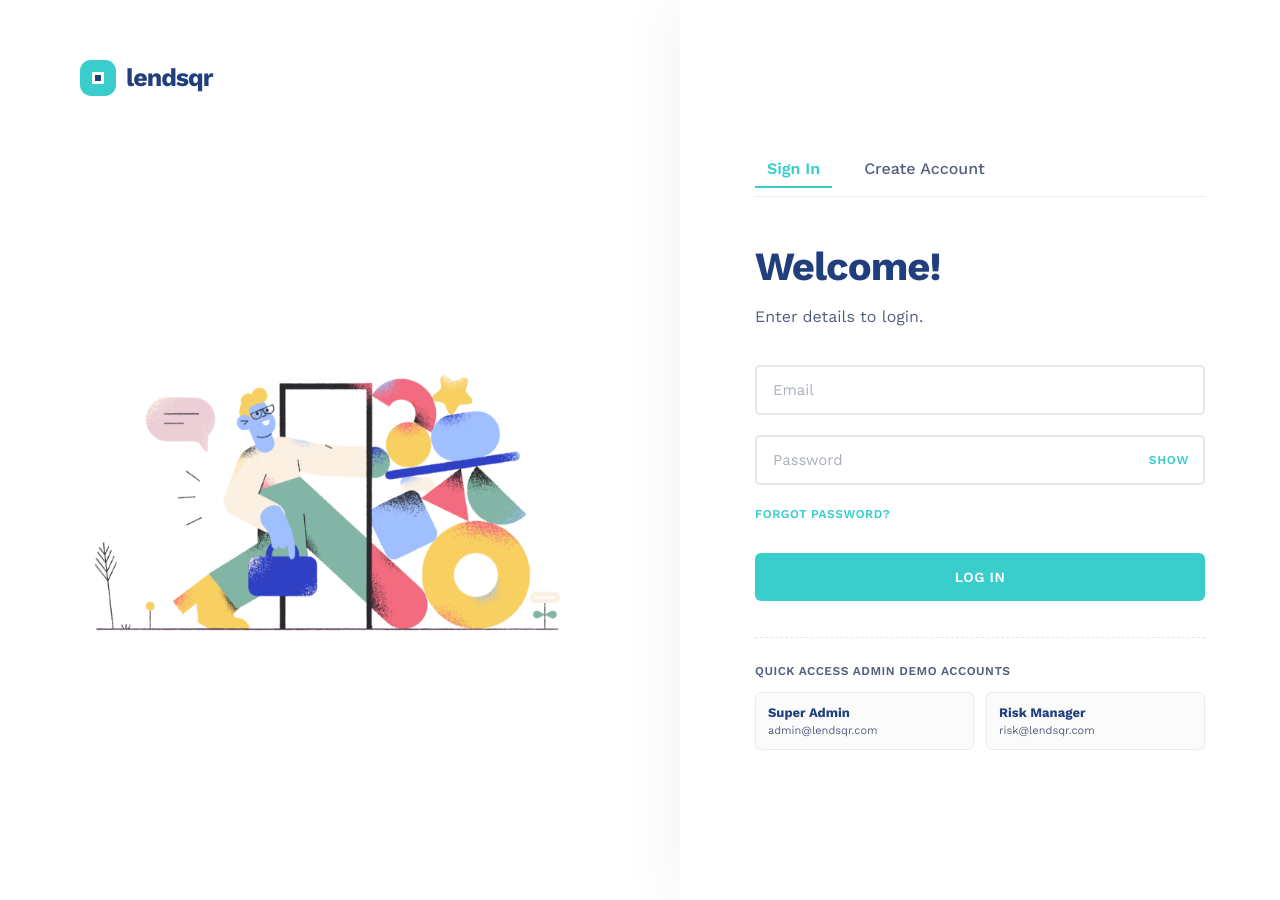
Test: Login Page › shows error when email is invalid
Type "invalidemail" into the field with placeholder "Email" at (980, 390), box [755,364,1205,414]
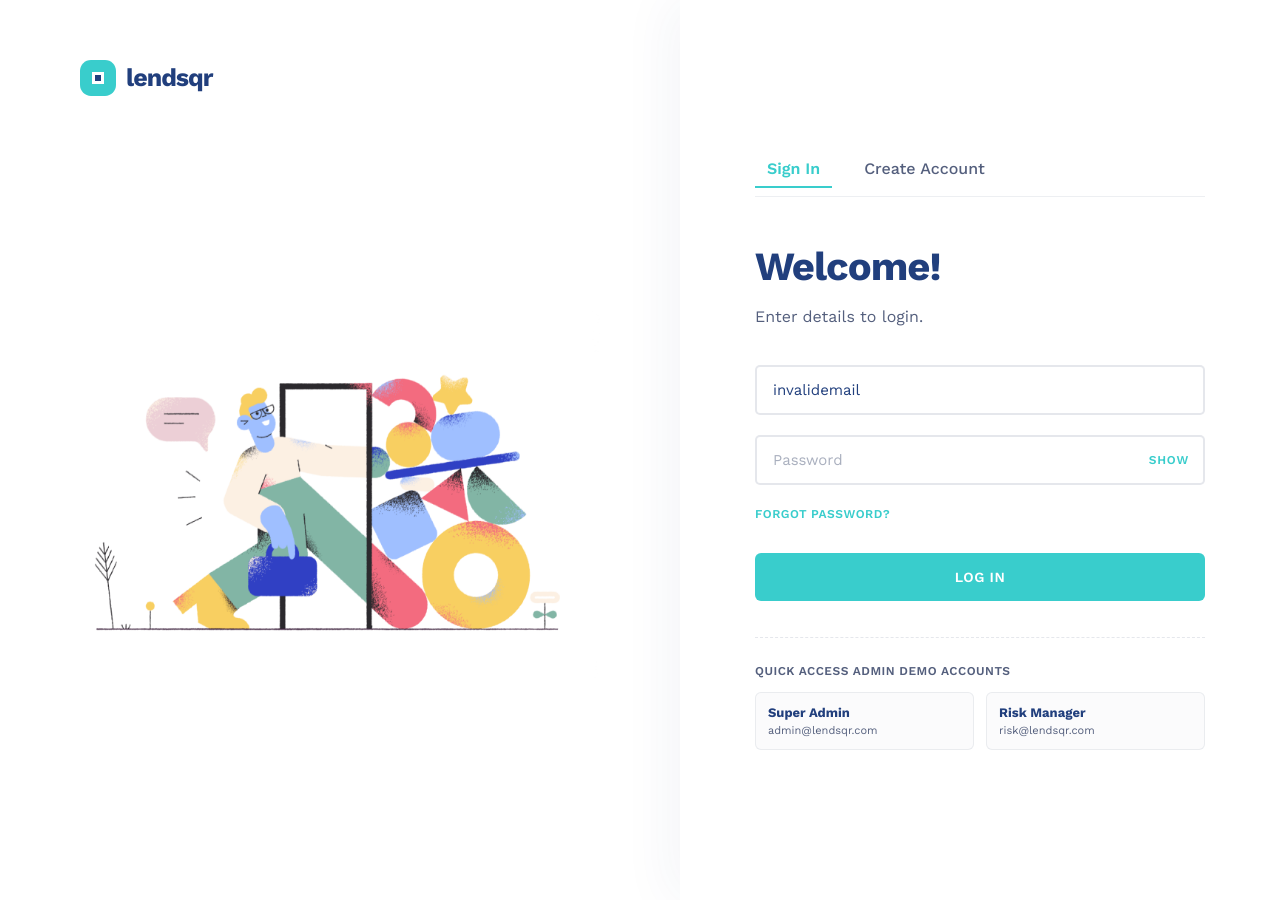
Type "password123" into the password field with placeholder "Password" at (980, 460), box [755,434,1205,484]
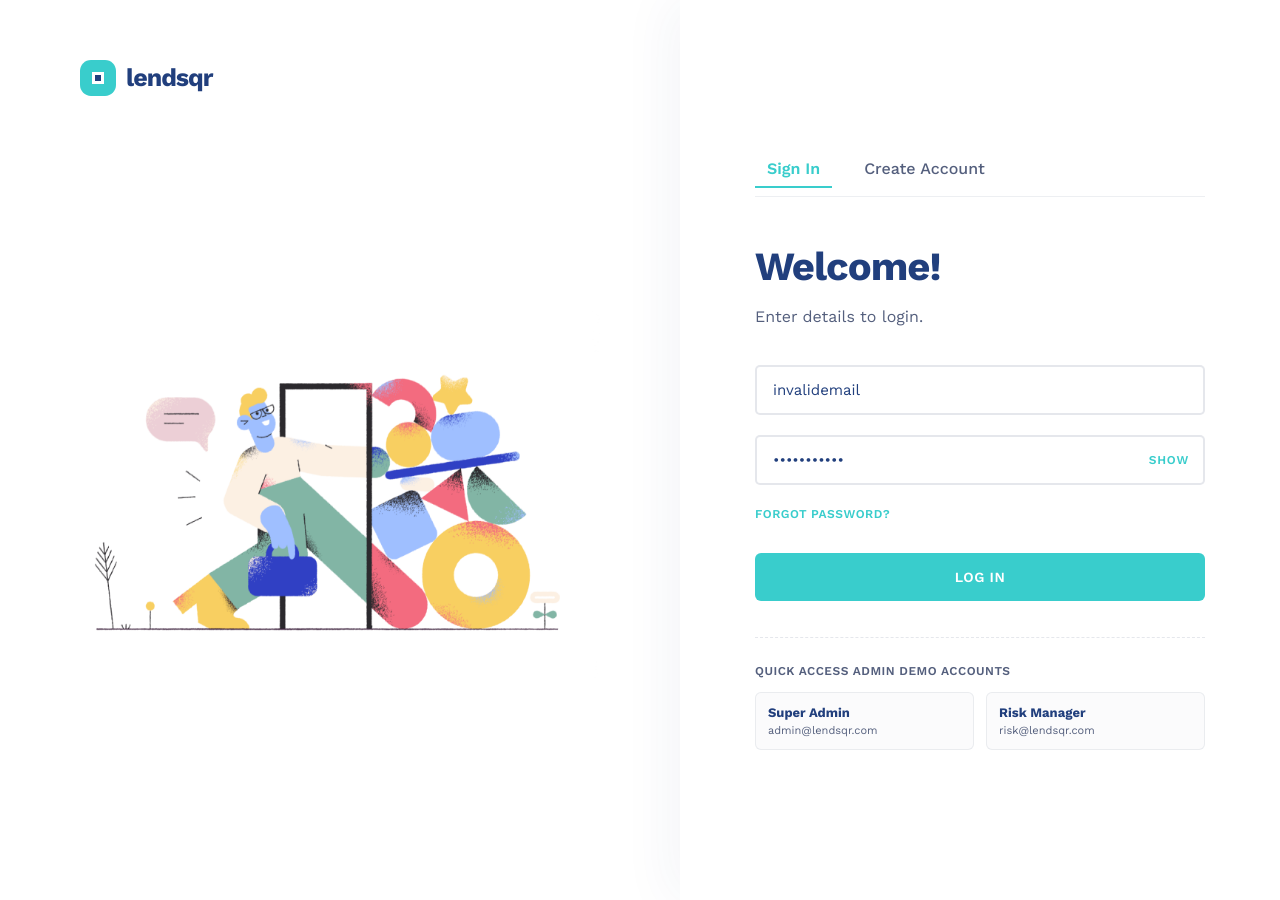
Click the button "LOG IN" at (980, 576), box [755,552,1205,600]
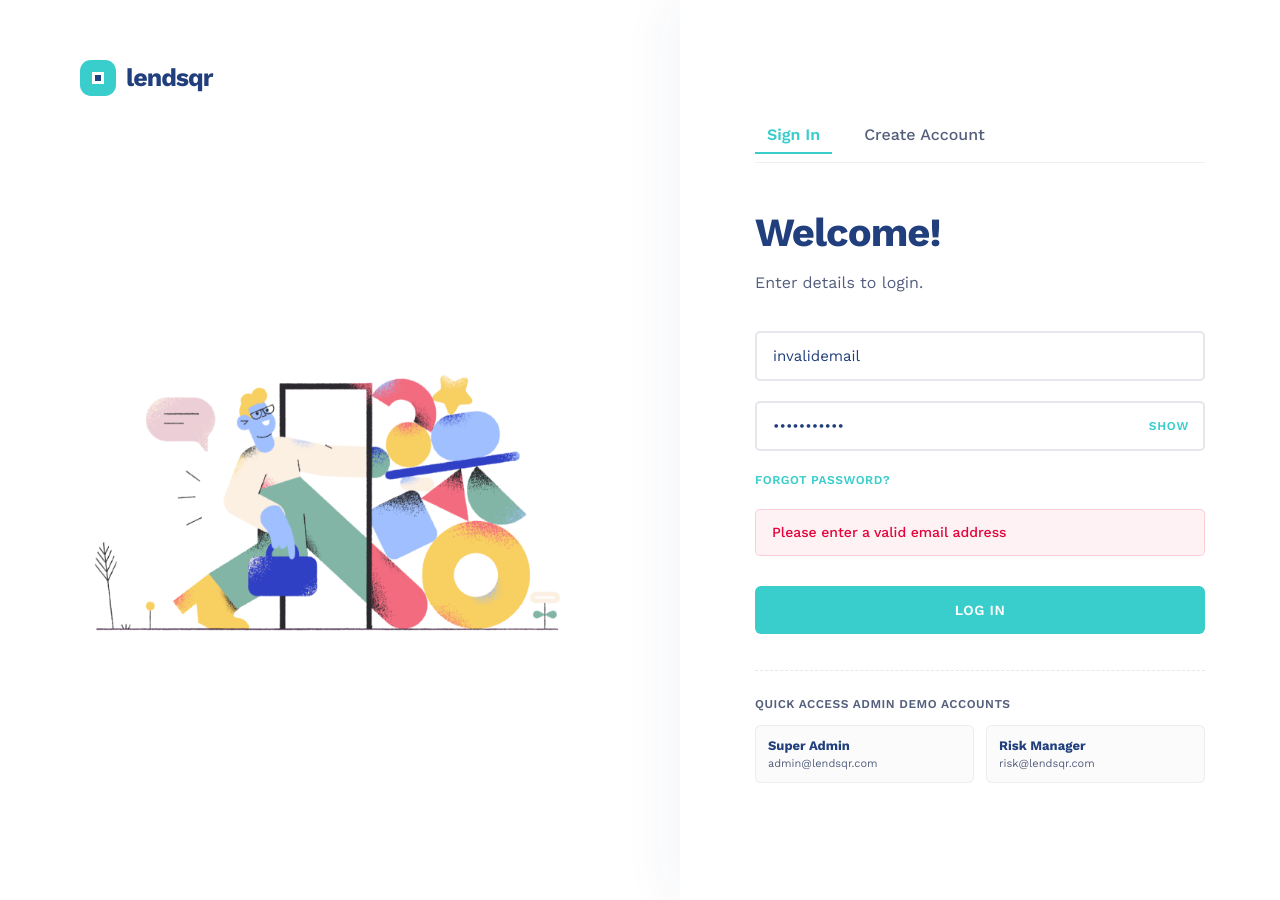
Expected: the text "Please enter a valid email address" is shown, [755,509,1205,556]
